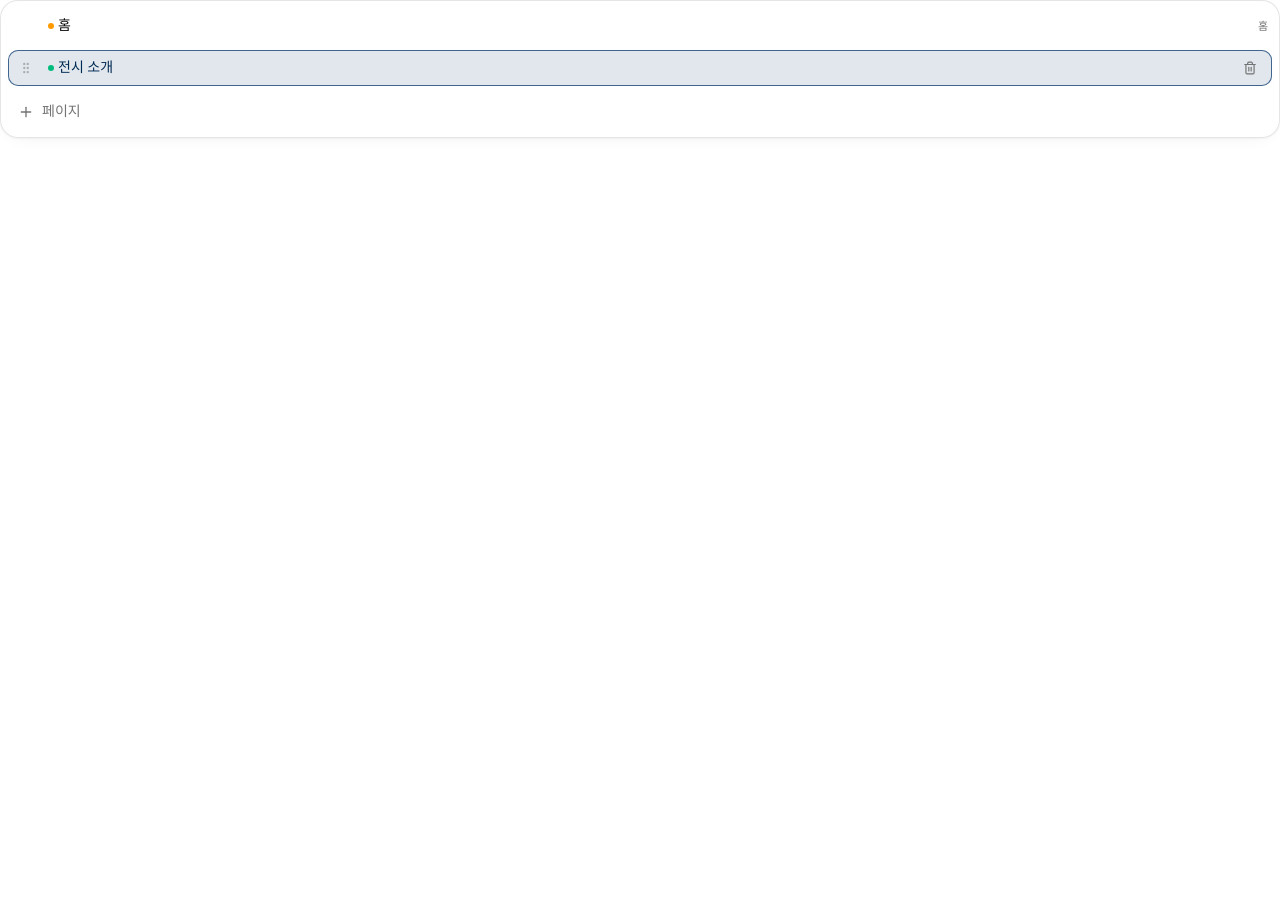
Test: 공개 중인 페이지 › 확인을 먼저 받는다
What coordinates should you click on to do the following:
click the button named "전시 소개 페이지 삭제"
I would click on:
 (1250, 68)
Its box is [1232, 50, 1268, 86].
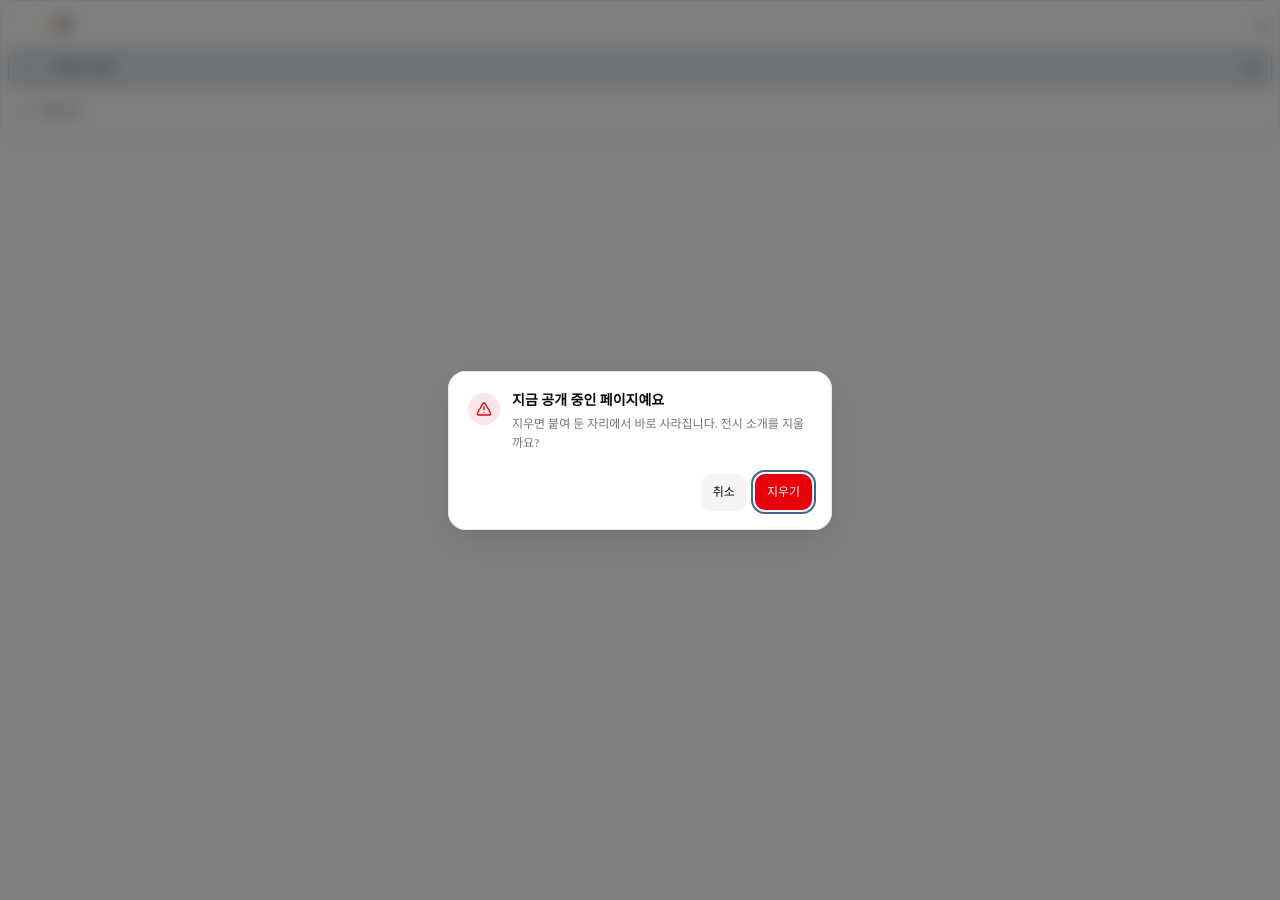
Result: the text "지금 공개 중인 페이지예요" is shown at [512, 392, 664, 408]
Result: the text "전시 소개를 지울까요?" is shown at [512, 416, 804, 450]
